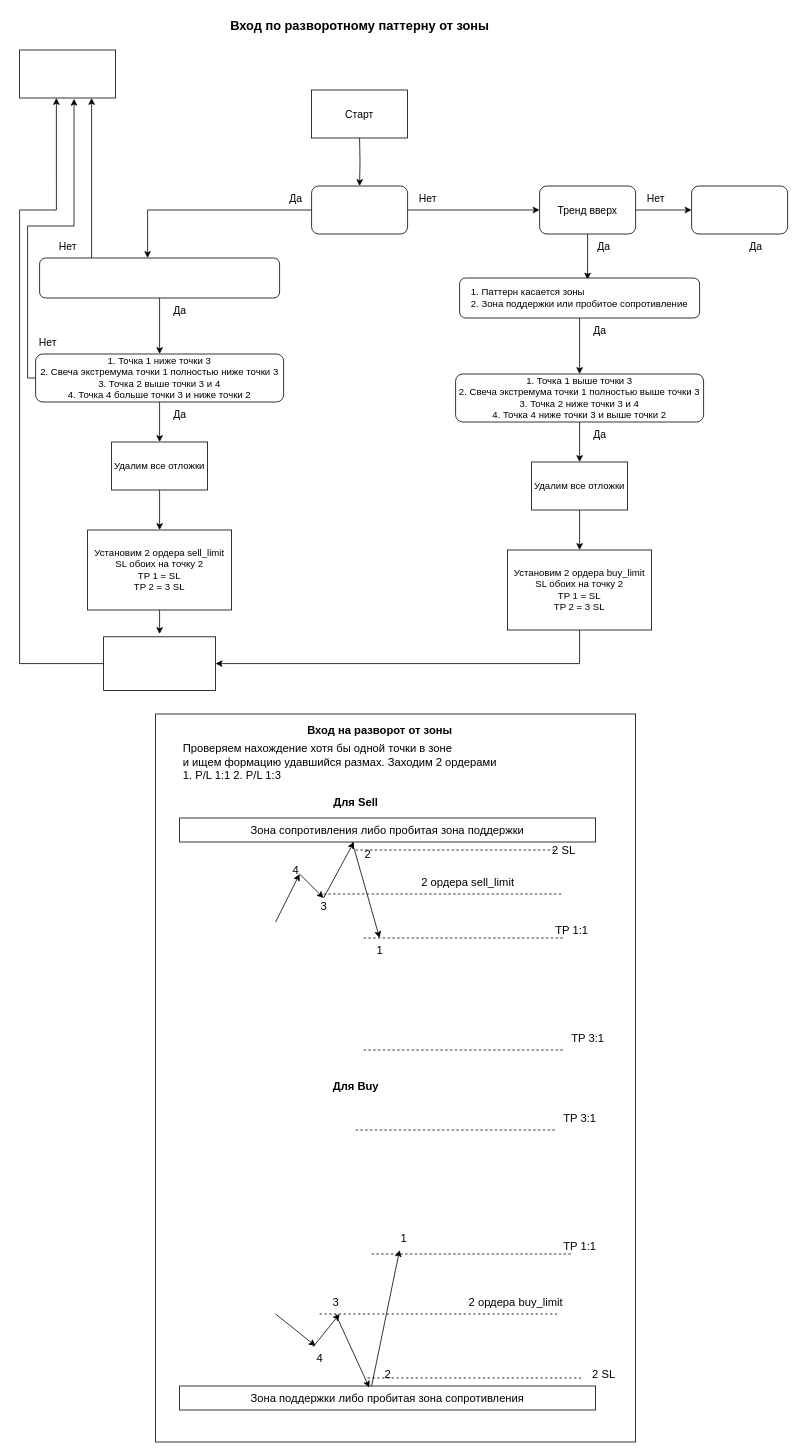
Some shapes in this 802 by 1456 pixel diagram are drawn without their labels. The centre of each missing label's shape, as x and y in pixels:
1. Паттерн касается зоны 2. Зона сопротивления или пробитая поддержка: point (159, 277)
Выход: point (67, 73)
Тренд вниз: point (359, 209)
Установим внешний флаг, что паттерн был найден и ордера установлены.: point (159, 663)
Флэт: point (739, 209)
